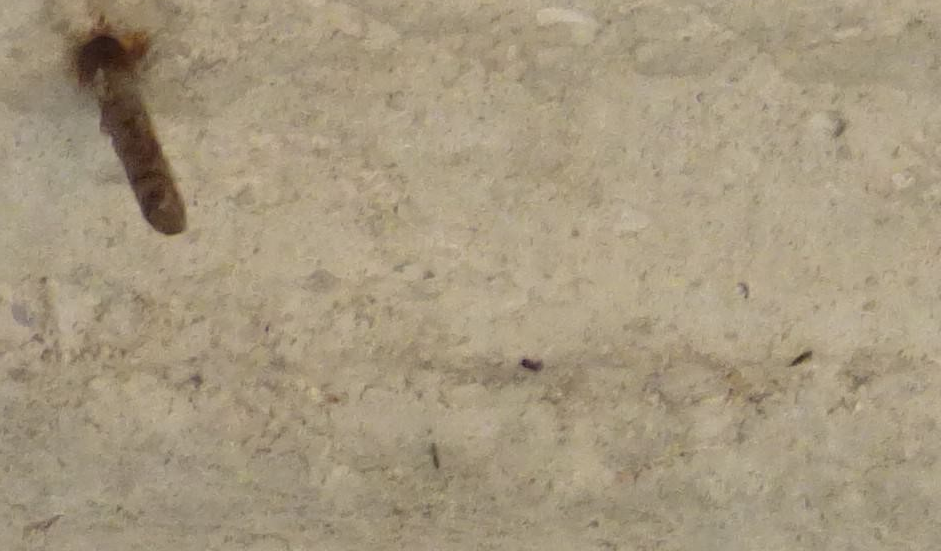Exposed reinforcement: (82, 40, 188, 236)
